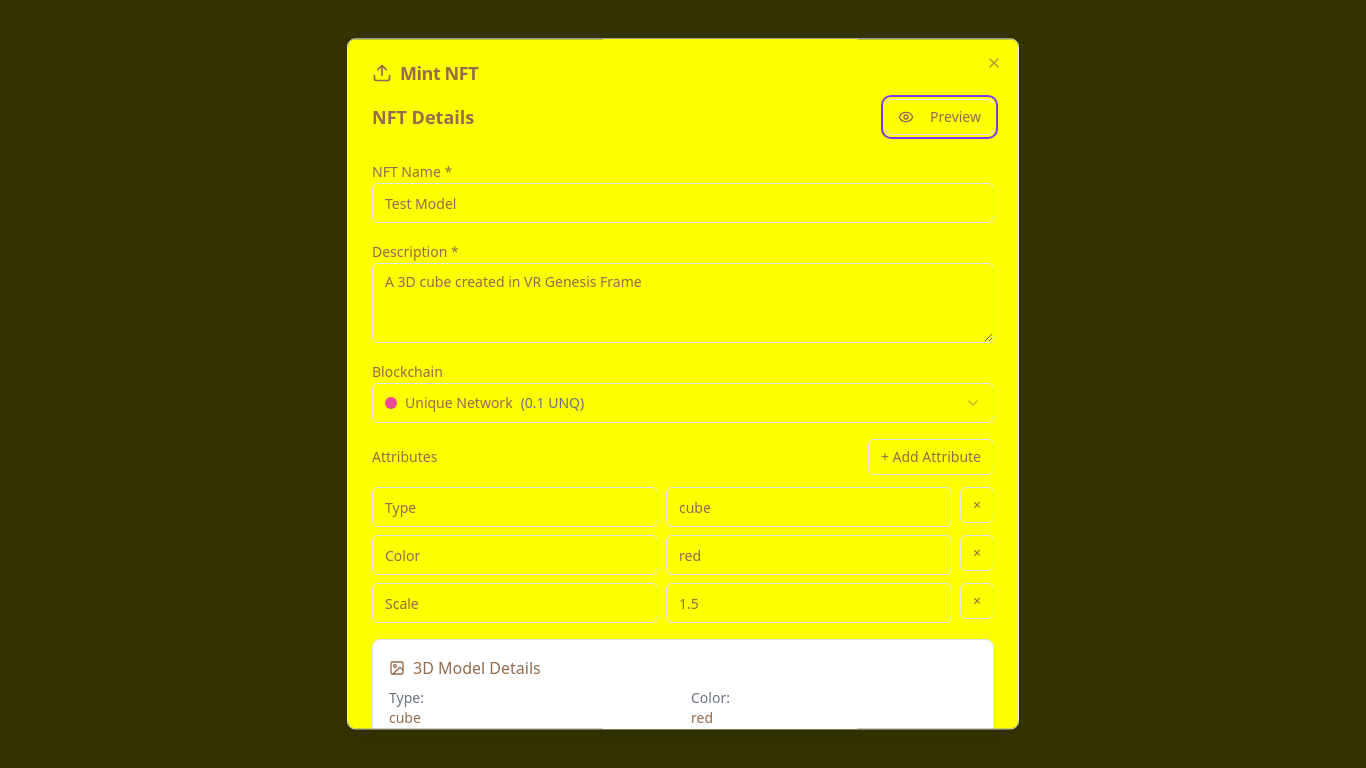
MintingModal › toggles between edit and preview modes
This screenshot has width=1366, height=768.
Expected: the field labelled "NFT Name *" is shown, [372, 183, 994, 223]
Click preview button
Click the button "Preview" at {"x": 940, "y": 117}, box [885, 99, 994, 135]
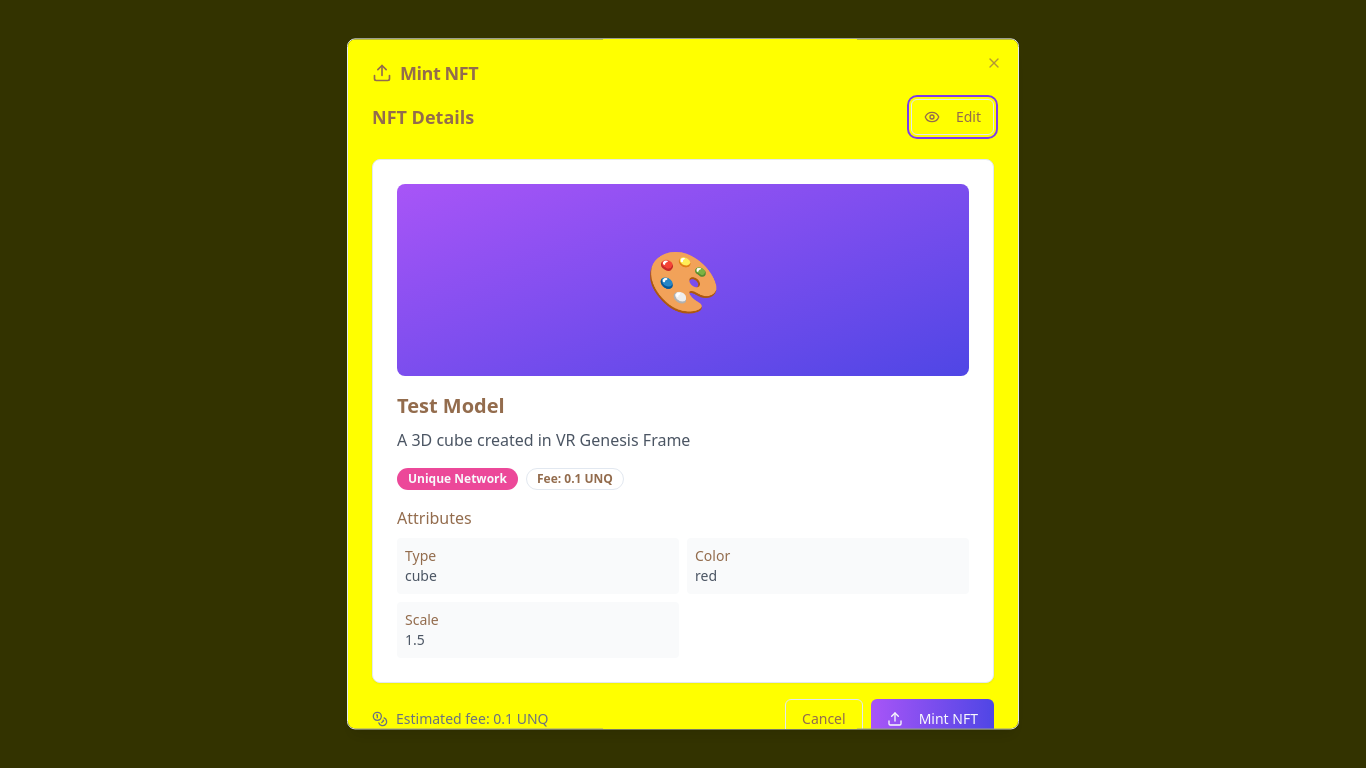
Result: the heading "Test Model" is shown at [397, 392, 505, 419]
Result: the label labelled "NFT Name *" is gone
Click edit button
Click the button "Edit" at {"x": 952, "y": 117}, box [911, 99, 994, 135]
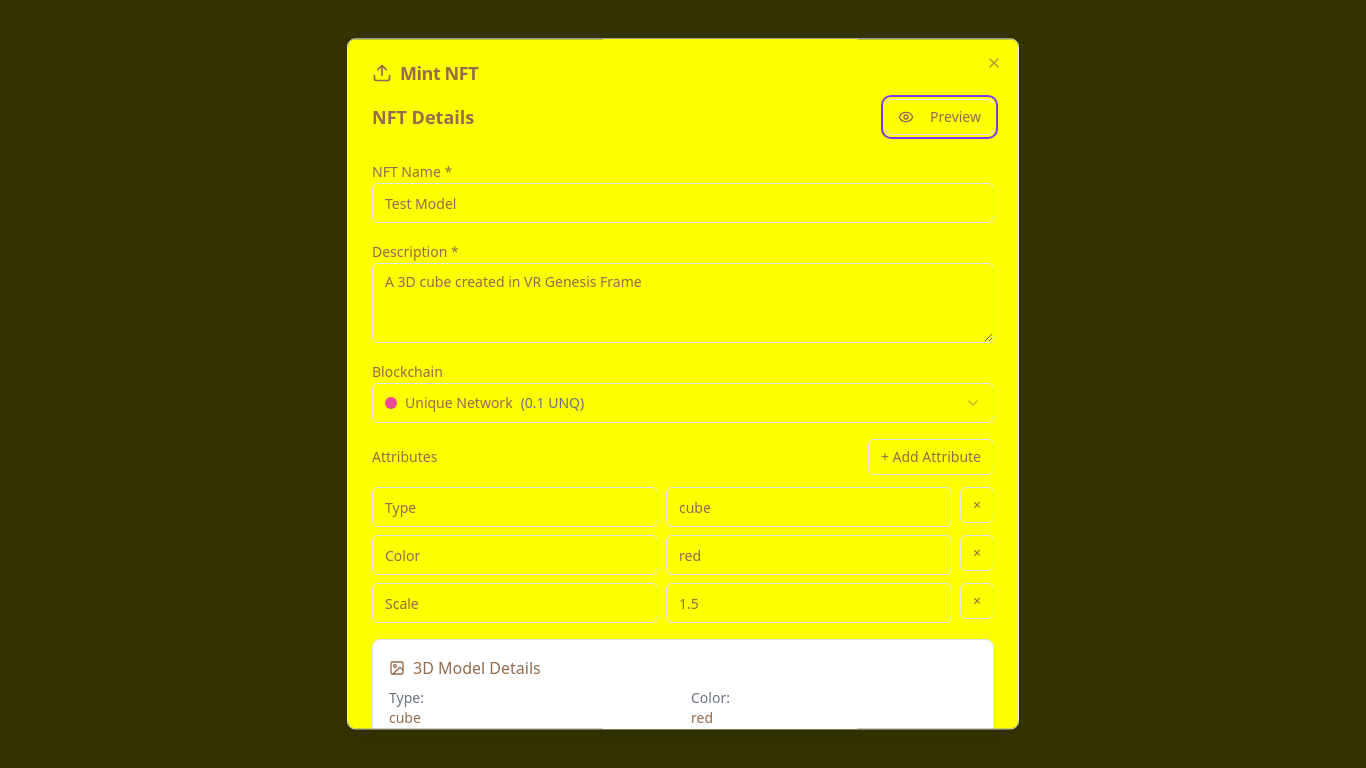
Result: the field labelled "NFT Name *" is shown at [372, 183, 994, 223]
